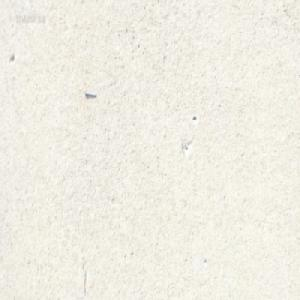Nail: (84, 89, 97, 97)
